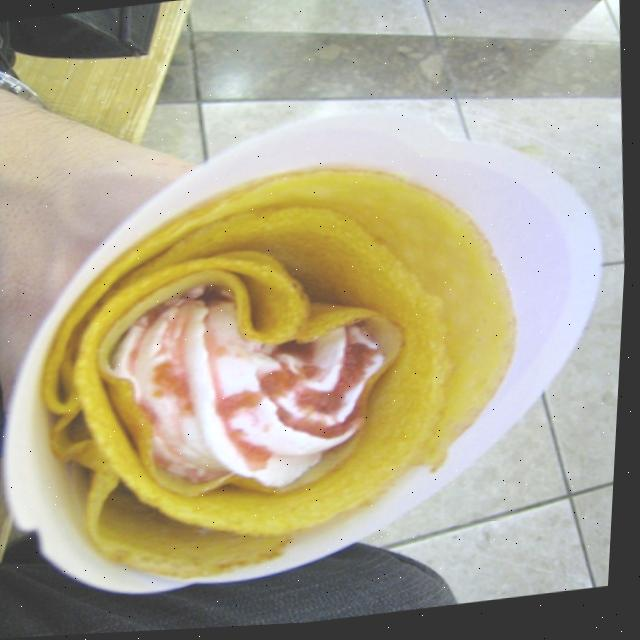鸡蛋料理: (33, 111, 550, 541)
